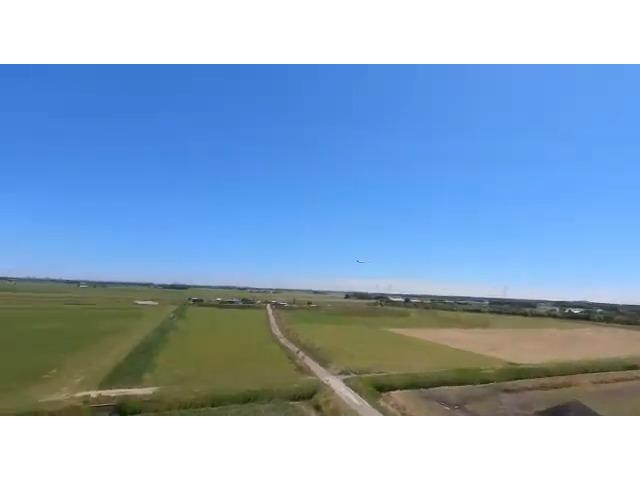Anti-Drone: (344, 251, 384, 271)
